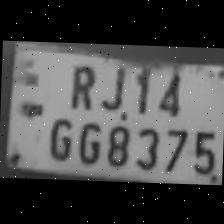1: (127, 53, 155, 114)
3: (130, 120, 160, 170)
4: (152, 60, 186, 114)
5: (186, 122, 218, 176)
7: (158, 120, 188, 174)
8: (102, 119, 131, 167)
G: (43, 114, 74, 160), (74, 116, 102, 164)
J: (96, 55, 128, 111)
R: (64, 58, 98, 110)
